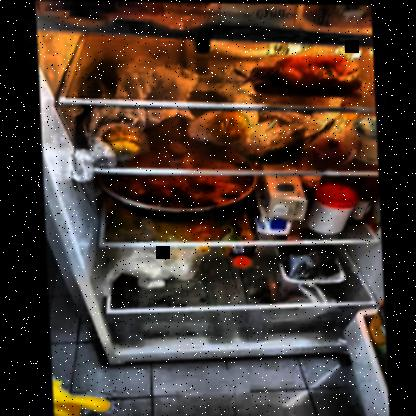broccoli: (276, 245, 344, 283)
carrot: (246, 57, 362, 97)
green_chillies: (241, 133, 304, 163)
lemon: (208, 108, 251, 143), (100, 125, 145, 156)
milk: (195, 36, 360, 57), (256, 176, 306, 233)
tomato: (308, 135, 352, 165)
